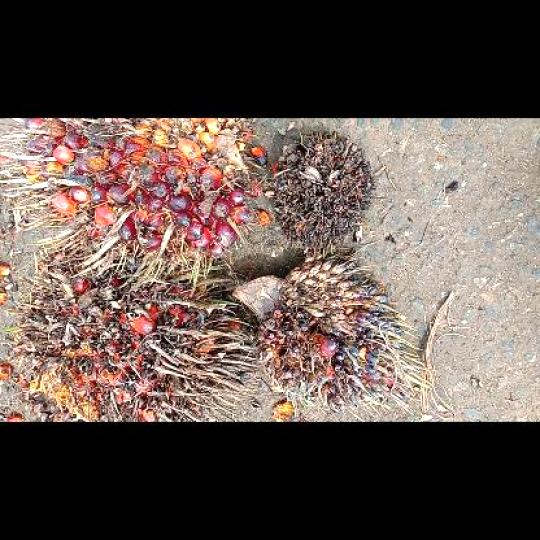masak: (14, 120, 259, 260)
terlalu masak: (8, 250, 241, 420)
